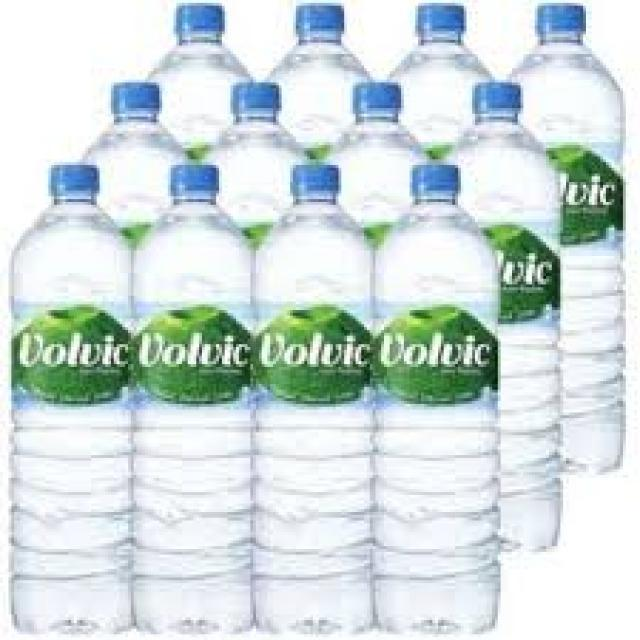Plastic: (494, 2, 634, 466), (130, 161, 254, 640), (12, 162, 131, 640), (380, 168, 500, 632), (251, 158, 369, 628), (448, 80, 562, 554), (184, 78, 326, 238), (368, 1, 504, 167), (134, 0, 260, 162), (262, 0, 388, 156), (62, 80, 199, 222), (319, 77, 431, 241)
